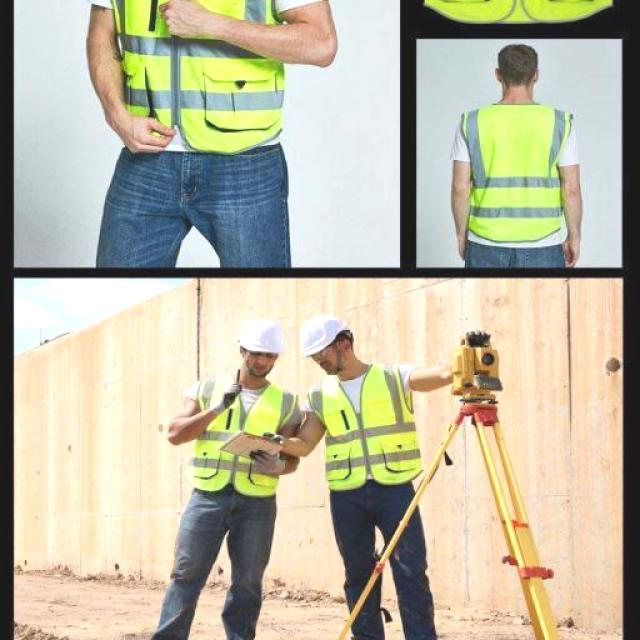face_nomask: (306, 346, 339, 374), (246, 348, 278, 374)
glasses: (306, 342, 336, 364)
hand_glove: (247, 446, 288, 482), (214, 378, 247, 414)
hand_noglove: (124, 107, 178, 155), (156, 0, 212, 41), (556, 231, 584, 271)
head_helmet: (296, 313, 352, 361), (234, 316, 291, 355)
head_nohelmet: (489, 41, 543, 100)
person: (146, 311, 304, 640), (304, 305, 444, 640), (446, 41, 585, 265)
vest: (104, 0, 294, 144), (459, 96, 572, 248), (177, 372, 295, 496), (308, 373, 423, 493)
